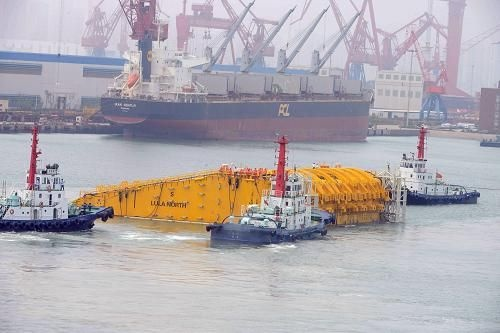otherboat: (207, 139, 326, 246), (1, 151, 117, 236), (394, 150, 487, 208)
